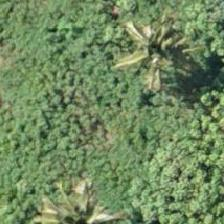coconut_tree: (113, 0, 203, 79)
